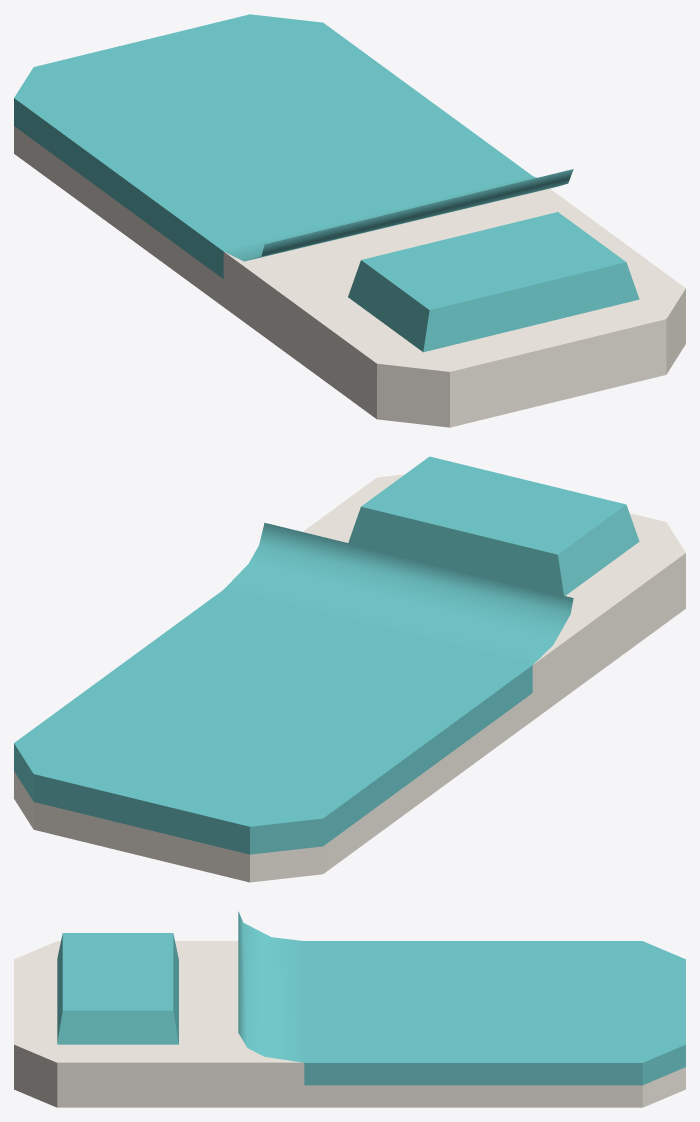
File: bed_floor.glb
3 views of the same model, one above another, from view 1: azimuth 30°, elevation 25°; view 2: azimuth 150°, elevation 25°; view 3: azimuth 270°, elevation 25° (orthographic). The views are drawn at different scales.
Visible parts, largest first — view 1: bed_floor; view 2: bed_floor; view 3: bed_floor.
Boxes of the visible parts, bbox=[...] form: bed_floor: bbox=[14, 14, 685, 427]; bed_floor: bbox=[14, 456, 685, 882]; bed_floor: bbox=[14, 911, 685, 1107].
Bounding box in the file's own units: 0.3203 × 0.092 × 0.7473.
